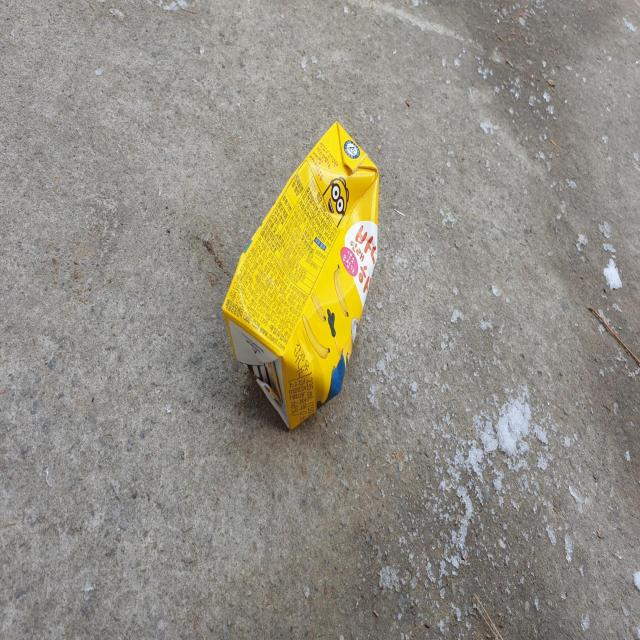paperpack: (222, 121, 379, 429)
